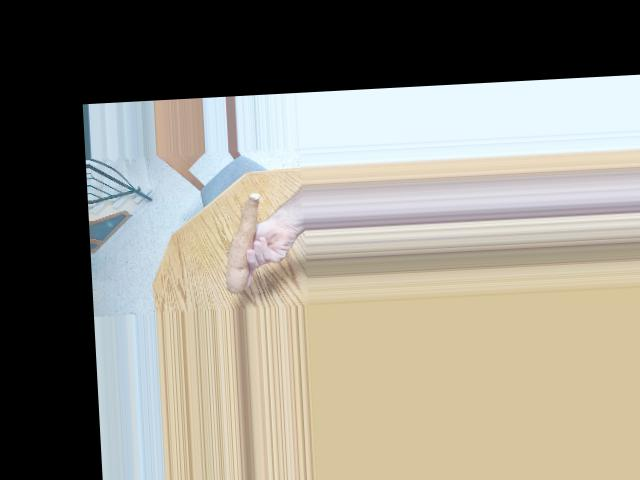sweet_potato: (219, 191, 268, 295)
